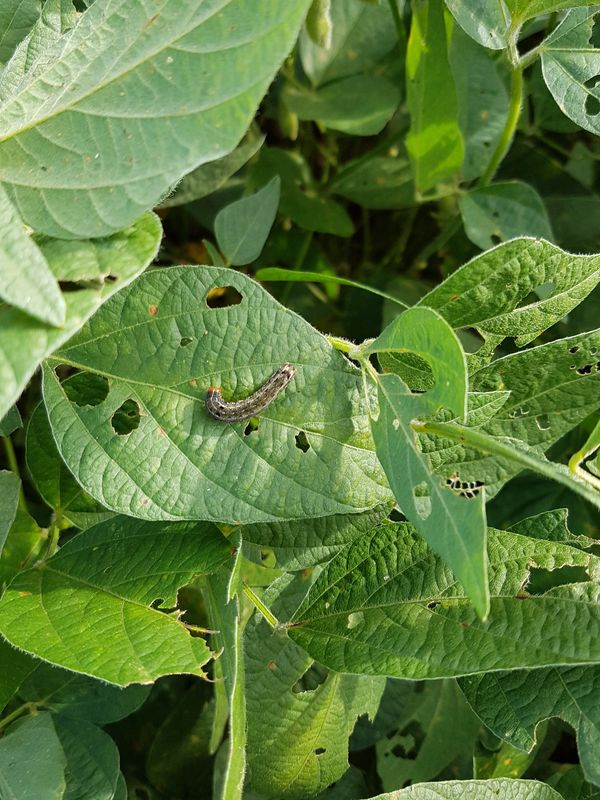Spodoptera_albula: (197, 357, 299, 428)
